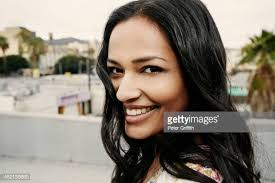indian_female: (101, 6, 198, 153)
